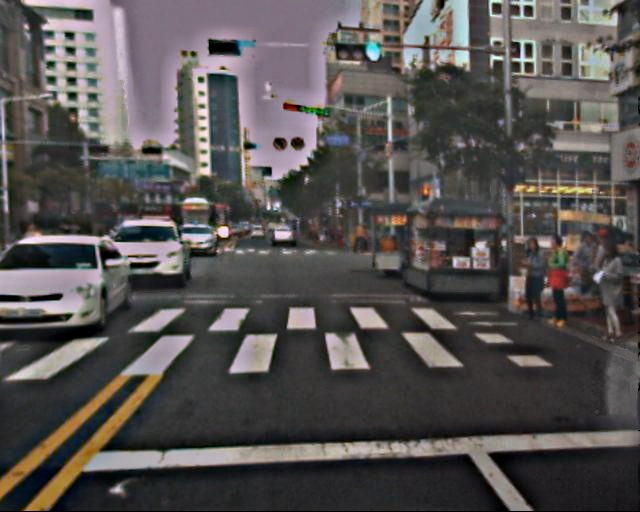person: (582, 245, 630, 342), (533, 237, 576, 330), (509, 238, 550, 321), (581, 230, 620, 308), (569, 231, 604, 308)
